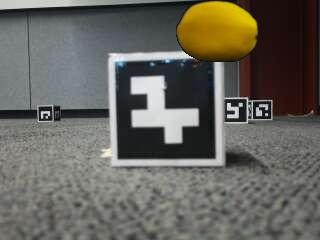lemon: (178, 1, 258, 62)
